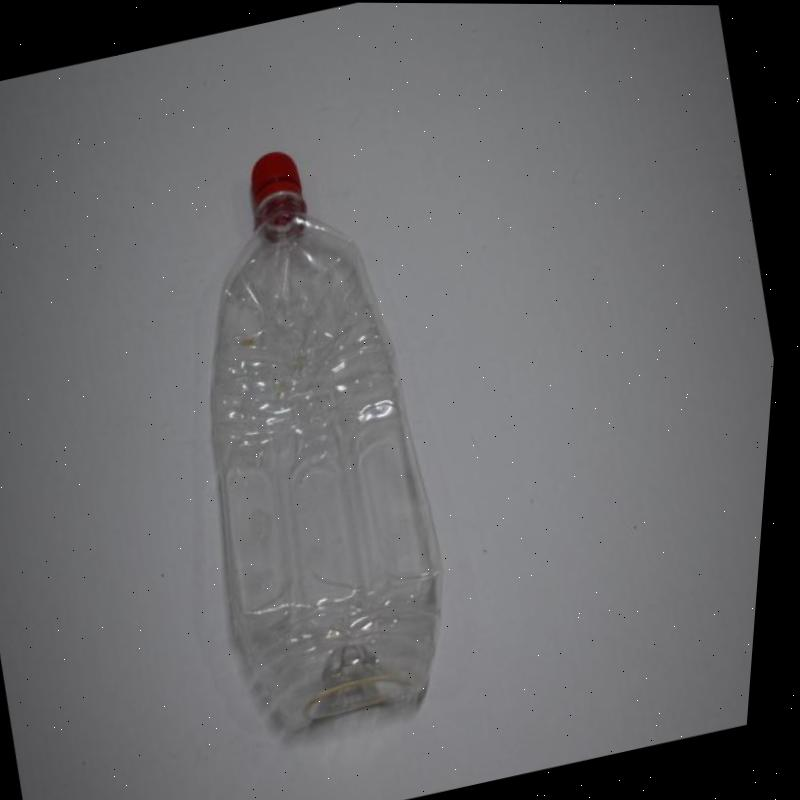botella: (125, 123, 507, 744)
